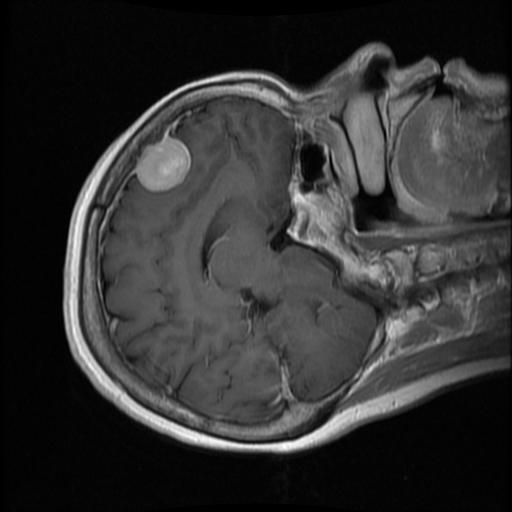meningioma: (136, 136, 191, 193)
